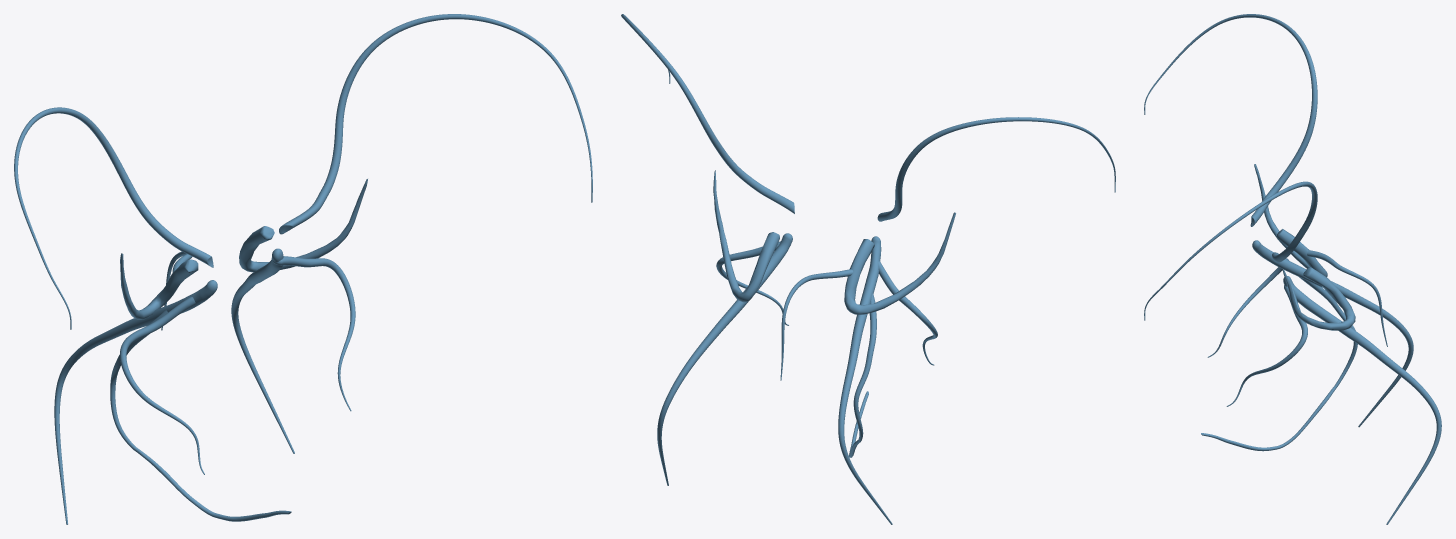
The model's file is pelvic-veins.glb.
3 renders of one model, left to right at view 1: azimuth 30°, elevation 25°; view 2: azimuth 150°, elevation 25°; view 3: azimuth 270°, elevation 25°, orthographic. The views are drawn at different scales.
Visible parts, largest first — view 1: FMA18904, FMA18903, FMA18912, FMA18913, FMA18918, FMA18910, FMA18915, FMA18909, FMA18916; view 2: FMA18912, FMA18913, FMA18909, FMA18904, FMA18903, FMA18910, FMA18918, FMA18906, FMA18915, FMA18916; view 3: FMA18913, FMA18903, FMA18912, FMA18904, FMA18910, FMA18918, FMA18909, FMA18916, FMA18906, FMA18915.
Boxes of the visible parts, left/top/right/bottom form: FMA18904: left=279, top=14, right=592, bottom=234; FMA18903: left=14, top=107, right=213, bottom=329; FMA18912: left=54, top=280, right=217, bottom=524; FMA18913: left=231, top=248, right=294, bottom=453; FMA18918: left=110, top=310, right=291, bottom=521; FMA18910: left=239, top=179, right=367, bottom=272; FMA18915: left=120, top=297, right=204, bottom=474; FMA18909: left=120, top=253, right=198, bottom=319; FMA18916: left=272, top=256, right=355, bottom=411; FMA18912: left=838, top=236, right=892, bottom=524; FMA18913: left=657, top=233, right=792, bottom=485; FMA18909: left=844, top=212, right=955, bottom=314; FMA18904: left=621, top=14, right=794, bottom=213; FMA18903: left=877, top=117, right=1115, bottom=221; FMA18910: left=713, top=170, right=779, bottom=302; FMA18918: left=849, top=293, right=876, bottom=457; FMA18906: left=780, top=269, right=852, bottom=380; FMA18915: left=878, top=261, right=937, bottom=365; FMA18916: left=716, top=241, right=790, bottom=325; FMA18913: left=1283, top=276, right=1441, bottom=524; FMA18903: left=1144, top=14, right=1317, bottom=226; FMA18912: left=1252, top=240, right=1413, bottom=427; FMA18904: left=1144, top=181, right=1317, bottom=320; FMA18910: left=1282, top=267, right=1355, bottom=330; FMA18918: left=1201, top=277, right=1357, bottom=451; FMA18909: left=1254, top=164, right=1327, bottom=277; FMA18916: left=1226, top=285, right=1307, bottom=406; FMA18906: left=1307, top=250, right=1387, bottom=346; FMA18915: left=1207, top=258, right=1288, bottom=357.
Size of the model in its own units: 2.56 by 2.07 by 1.49.
